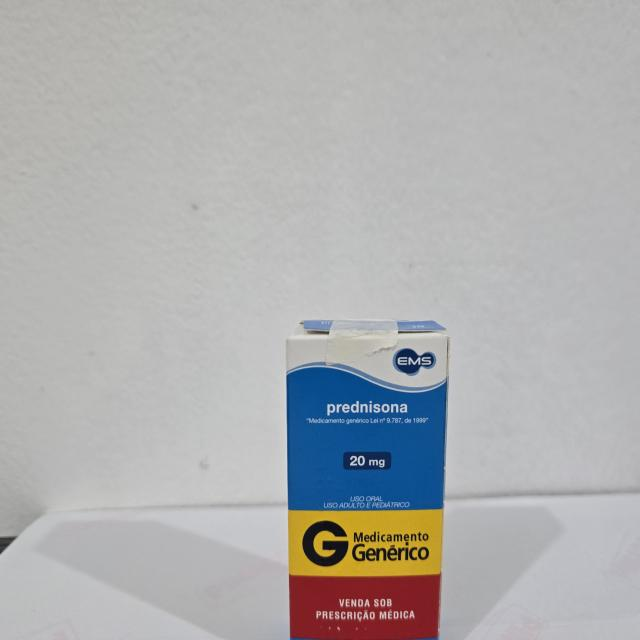prednisona: (281, 315, 454, 640)
